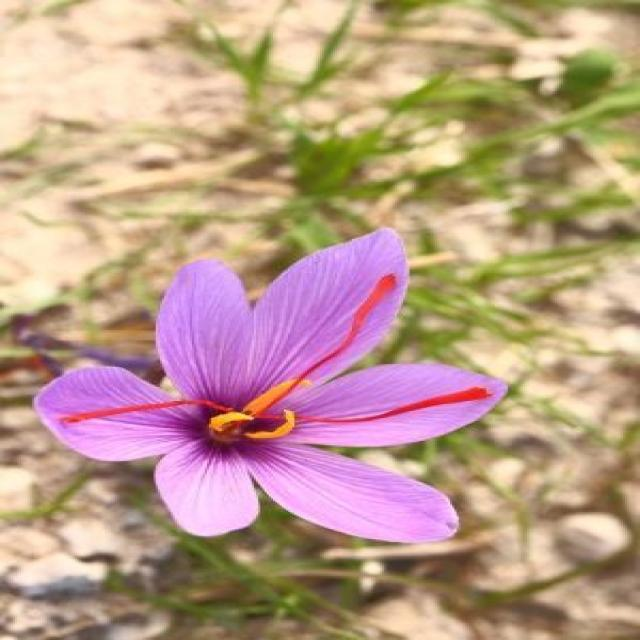Flower: (36, 230, 506, 541)
stigma: (245, 366, 490, 450), (302, 266, 405, 370), (55, 381, 238, 431)
